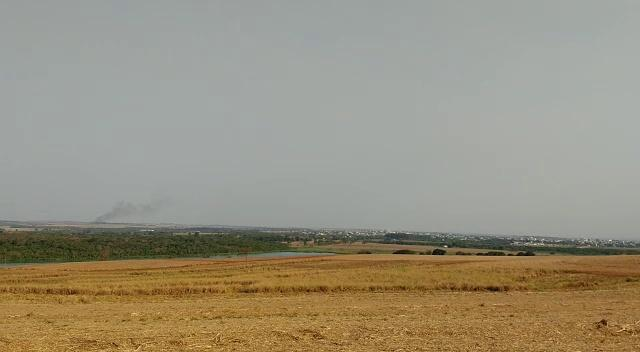smoke: (114, 201, 141, 215)
